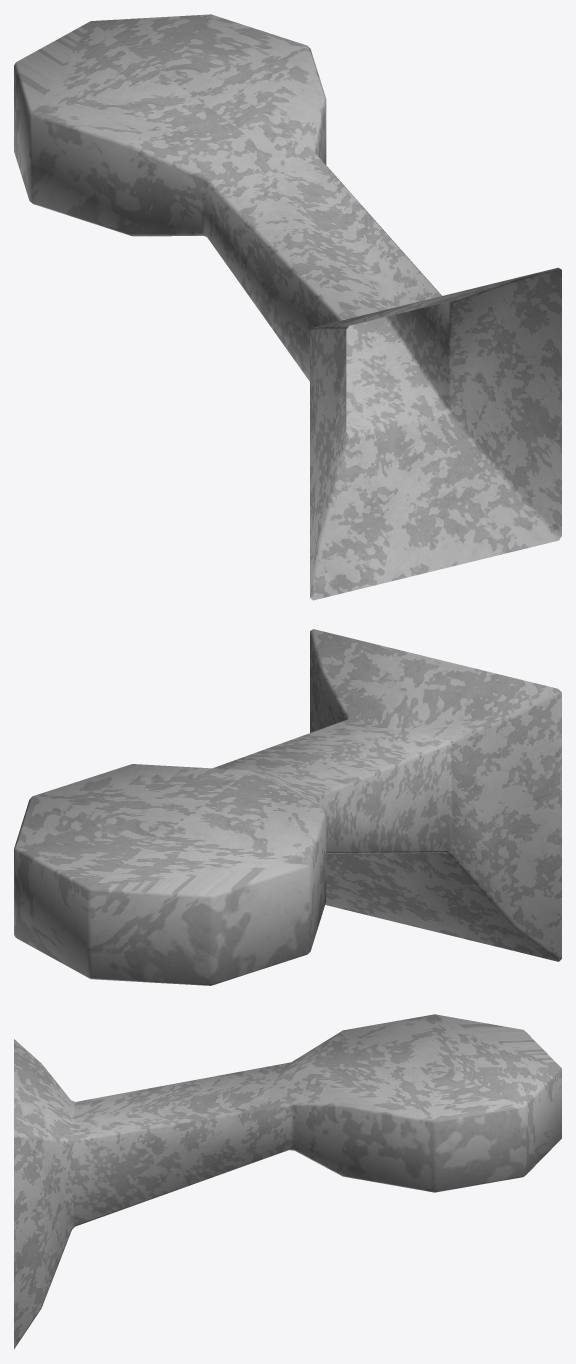
File: alcachofa.fbx
The picture shows the model from 3 angles, top to bottom: view 1: azimuth 30°, elevation 25°; view 2: azimuth 150°, elevation 25°; view 3: azimuth 270°, elevation 25°; orthographic projection. The views are drawn at different scales.
Parts seen in each view (by area): view 1: Plane.001; view 2: Plane.001; view 3: Plane.001.
Part boxes in pixels (box(x1,y1,x2,y2)): Plane.001: box(14, 14, 561, 600); Plane.001: box(14, 629, 561, 985); Plane.001: box(14, 1014, 561, 1348).
Bounding box in the file's own units: 40.1 × 40.84 × 86.37.
